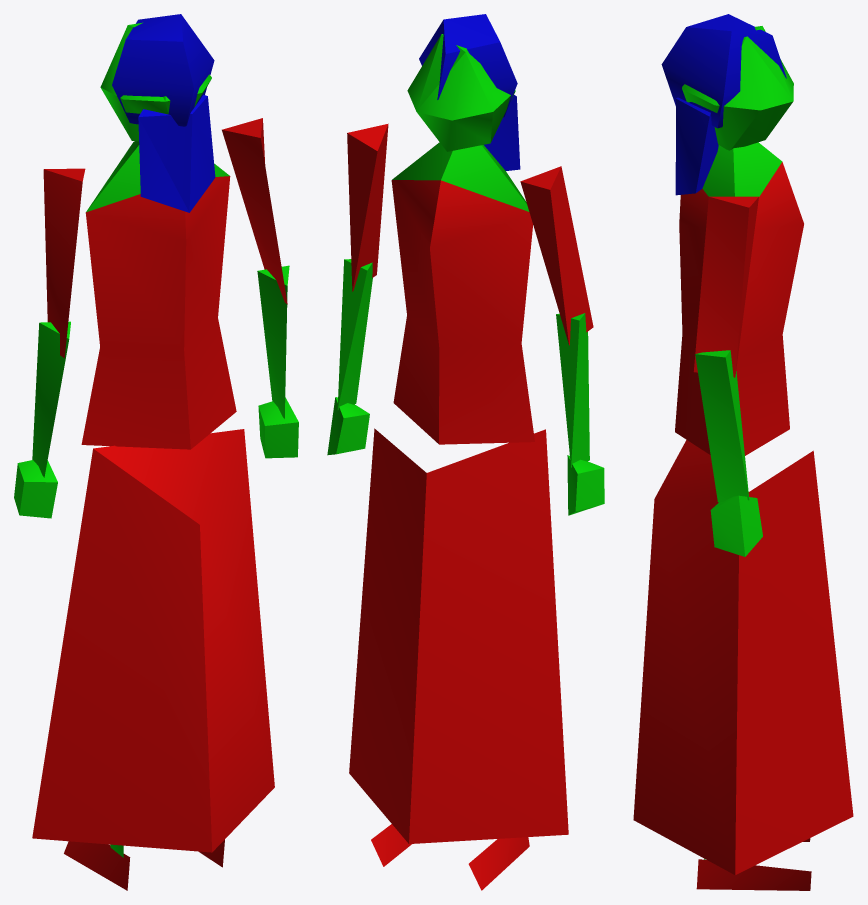
The model's file is stand_idle_f_lod2.glb.
3 renders of one model, left to right at view 1: azimuth 30°, elevation 25°; view 2: azimuth 150°, elevation 25°; view 3: azimuth 270°, elevation 25°, orthographic. The views are drawn at different scales.
Parts seen in each view (by area): view 1: OUT_2; view 2: OUT_2; view 3: OUT_2.
Boxes of the visible parts, box(x1,y1,x2,y2) form: OUT_2: box(14, 14, 298, 890); OUT_2: box(327, 14, 604, 890); OUT_2: box(633, 14, 853, 890).
Bounding box in the file's own units: 0.5787 × 1.7 × 0.3989.
